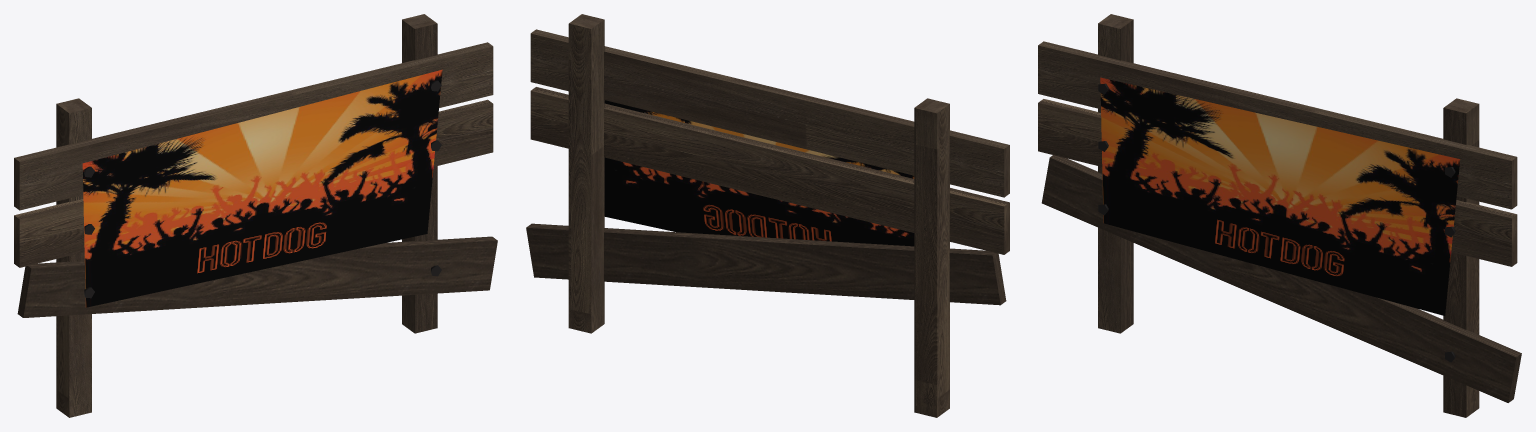
Rendered from M_mupai01.FBX.
3 views of the same model, side by side, from view 1: azimuth 30°, elevation 25°; view 2: azimuth 150°, elevation 25°; view 3: azimuth 330°, elevation 25° (orthographic).
Parts seen in each view (by area): view 1: M_mupai01_03, M_mupai01_01, M_mupai01_02; view 2: M_mupai01_01, M_mupai01_03; view 3: M_mupai01_03, M_mupai01_01, M_mupai01_02.
Part boxes in pixels (left/top/right/bottom): M_mupai01_03: left=82, top=69, right=442, bottom=307; M_mupai01_01: left=14, top=14, right=497, bottom=417; M_mupai01_02: left=84, top=80, right=441, bottom=298; M_mupai01_01: left=526, top=14, right=1009, bottom=417; M_mupai01_03: left=604, top=100, right=914, bottom=246; M_mupai01_03: left=1100, top=77, right=1460, bottom=315; M_mupai01_01: left=1038, top=14, right=1521, bottom=417; M_mupai01_02: left=1098, top=83, right=1455, bottom=362.
Bounding box in the file's own units: 4.53 × 2.76 × 0.3419.
